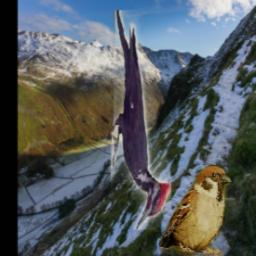Sparrow: (159, 165, 234, 256)
Woodpecker: (110, 11, 170, 231)
